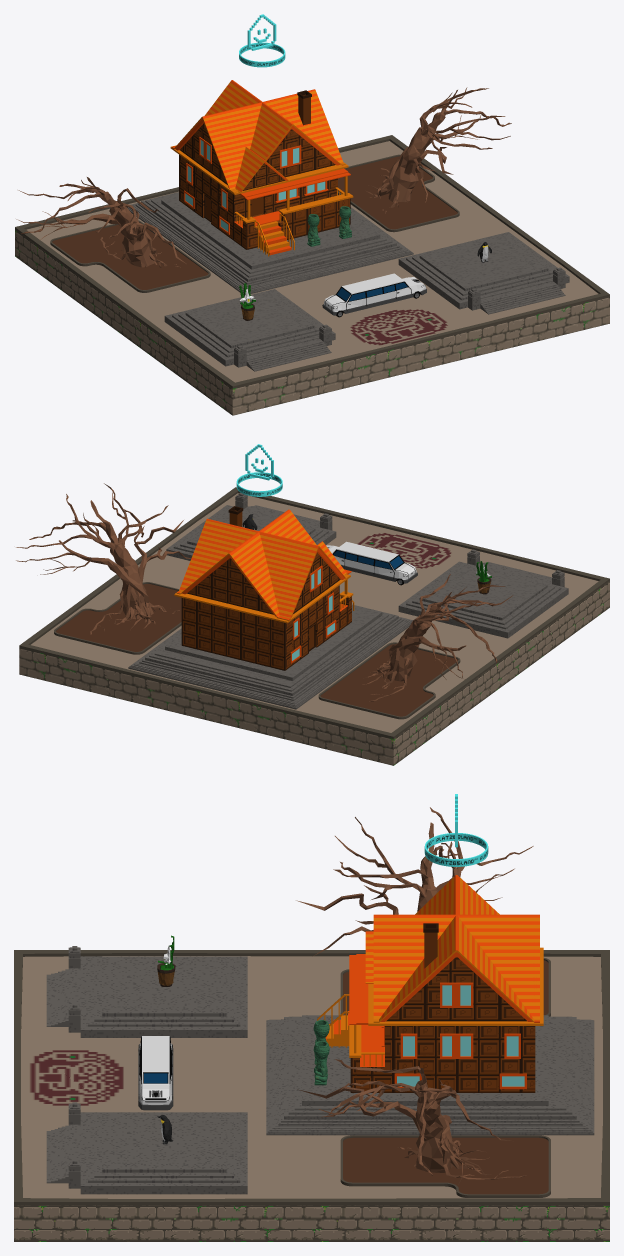
3 views of the same model, one above another, from view 1: azimuth 30°, elevation 25°; view 2: azimuth 150°, elevation 25°; view 3: azimuth 270°, elevation 25° (orthographic). The views are drawn at different scales.
Parts seen in each view (by area): view 1: Cube.011, Cube, VEHICLES_LIMOUSINE, TYPE_PREMIUM; view 2: Cube.011, Cube, VEHICLES_LIMOUSINE, TYPE_PREMIUM; view 3: Cube.011, Cube, VEHICLES_LIMOUSINE, TYPE_PREMIUM.
Boxes of the visible parts, x1,y1,x2,y2 form: Cube.011: [15, 87, 609, 415]; Cube: [170, 80, 353, 256]; VEHICLES_LIMOUSINE: [322, 273, 426, 317]; TYPE_PREMIUM: [239, 14, 285, 67]; Cube.011: [16, 483, 609, 765]; Cube: [174, 506, 354, 670]; VEHICLES_LIMOUSINE: [326, 541, 417, 585]; TYPE_PREMIUM: [236, 444, 282, 496]; Cube.011: [14, 807, 609, 1241]; Cube: [317, 875, 543, 1092]; VEHICLES_LIMOUSINE: [138, 1036, 173, 1110]; TYPE_PREMIUM: [424, 794, 488, 866].
Bounding box in the file's own units: 5099 × 2567 × 4000.
Materials: 35 (7 with a texture image).
